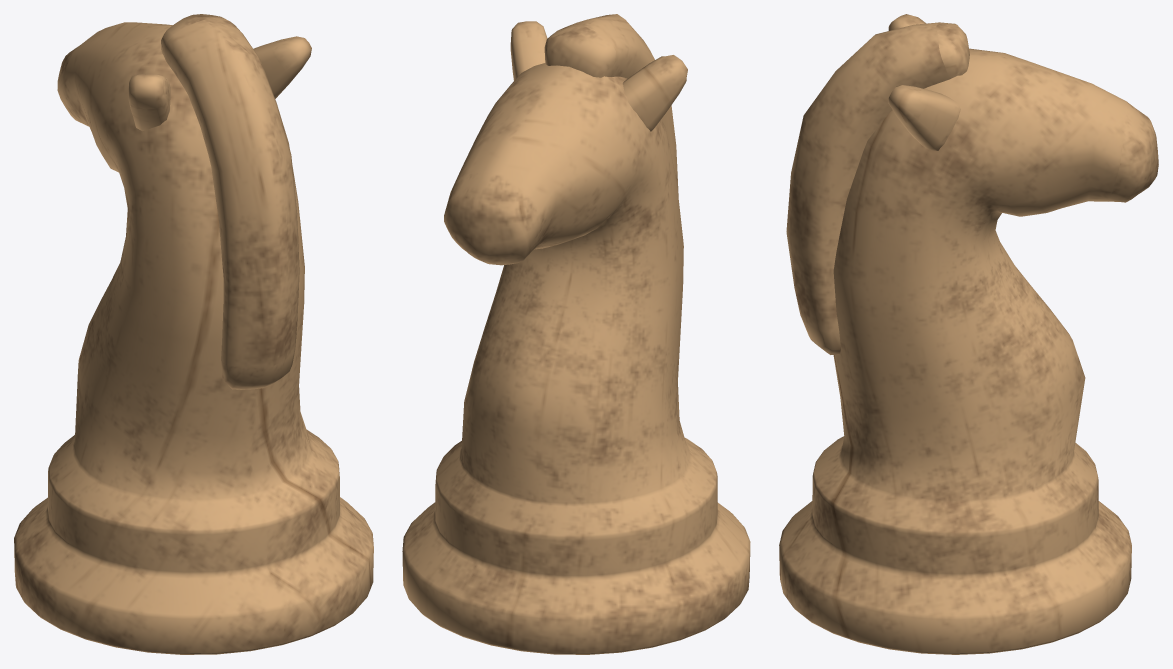
Rendered from GEO_WhiteKnight_02.obj.
3 renders of one model, left to right at view 1: azimuth 30°, elevation 25°; view 2: azimuth 150°, elevation 25°; view 3: azimuth 270°, elevation 25°, orthographic. The views are drawn at different scales.
Parts seen in each view (by area): view 1: GEO_WhiteKnight_02; view 2: GEO_WhiteKnight_02; view 3: GEO_WhiteKnight_02.
Boxes of the visible parts, x1,y1,x2,y2 form: GEO_WhiteKnight_02: (14, 14, 373, 654); GEO_WhiteKnight_02: (402, 14, 750, 654); GEO_WhiteKnight_02: (779, 14, 1158, 654).
Bounding box in the file's own units: 0.0377 × 0.0655 × 0.0406.
